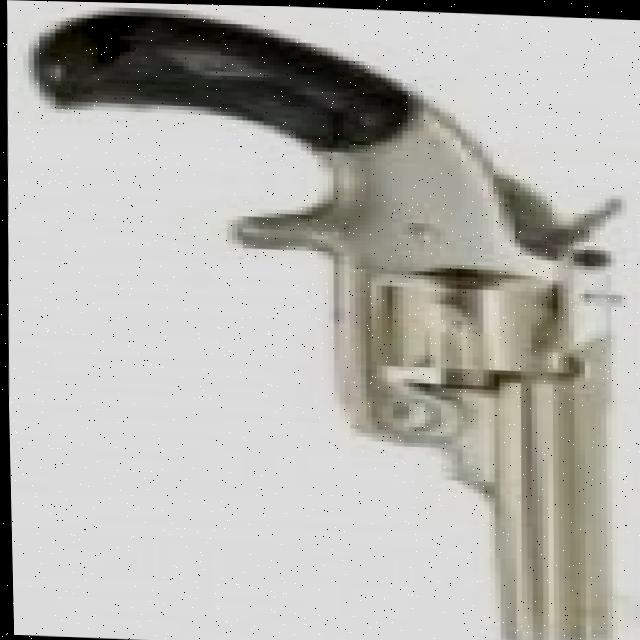pistol: (19, 6, 639, 640)
